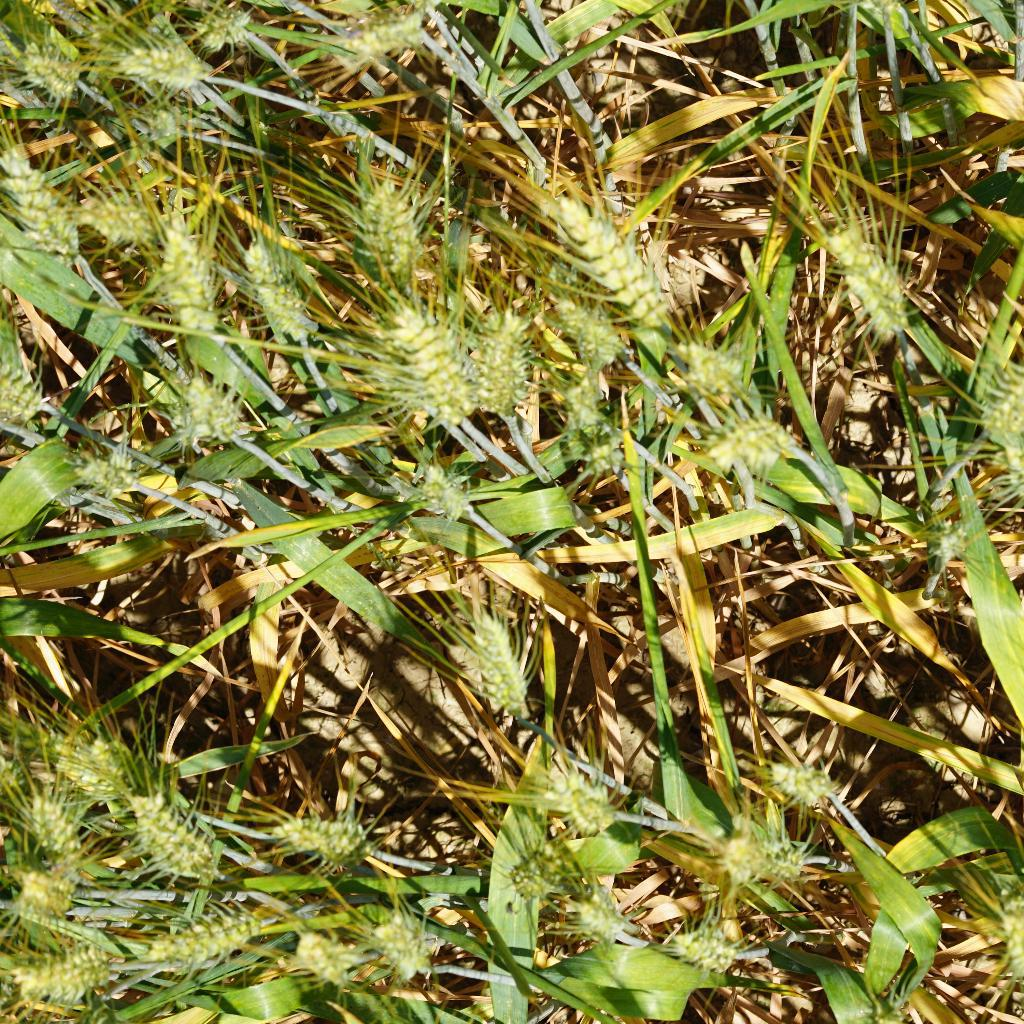0-0: (542, 190, 679, 337), (815, 200, 915, 350), (377, 302, 481, 429), (441, 610, 542, 724), (0, 150, 92, 272), (238, 235, 326, 351), (122, 795, 221, 890), (343, 167, 418, 290), (250, 802, 385, 870), (144, 230, 224, 337), (142, 905, 271, 971), (463, 318, 539, 430), (164, 369, 253, 462), (705, 402, 800, 486), (362, 903, 451, 989), (963, 322, 1024, 444), (549, 294, 635, 380), (8, 946, 133, 1005), (313, 0, 428, 64), (568, 885, 660, 960), (549, 367, 630, 452), (389, 462, 485, 529), (534, 763, 630, 830), (283, 922, 366, 997), (747, 754, 851, 811), (14, 785, 89, 864), (675, 331, 752, 404), (505, 833, 585, 903), (118, 43, 221, 96), (668, 919, 757, 978), (70, 191, 165, 242), (53, 743, 133, 803), (10, 45, 85, 107), (716, 821, 772, 895), (182, 0, 268, 48), (64, 451, 146, 499), (982, 888, 1024, 978), (17, 871, 92, 919), (749, 839, 817, 887), (917, 512, 972, 569), (569, 432, 630, 479), (0, 380, 58, 429), (138, 106, 183, 145)
